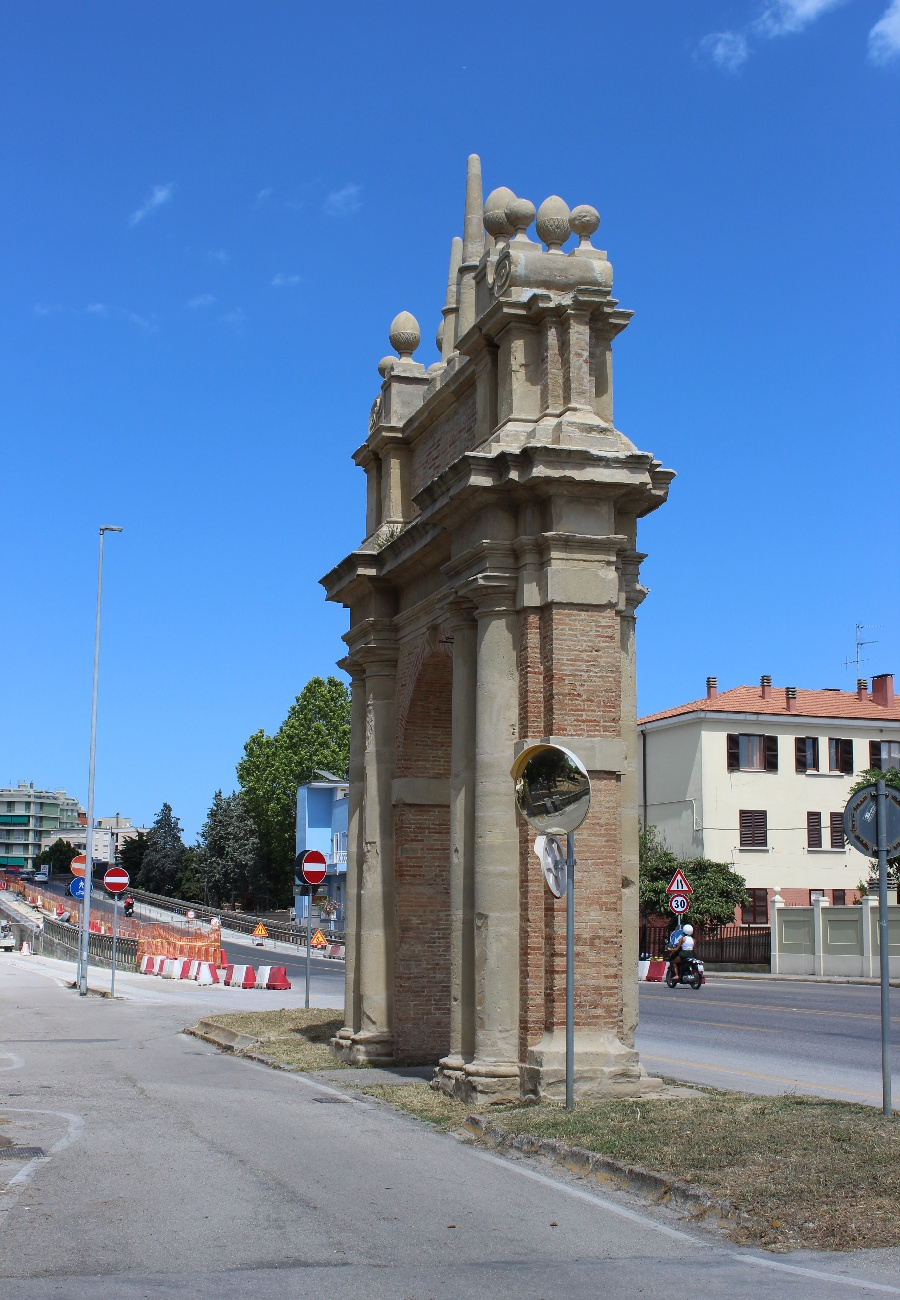Arco di Trionfo: (320, 150, 679, 1103)
